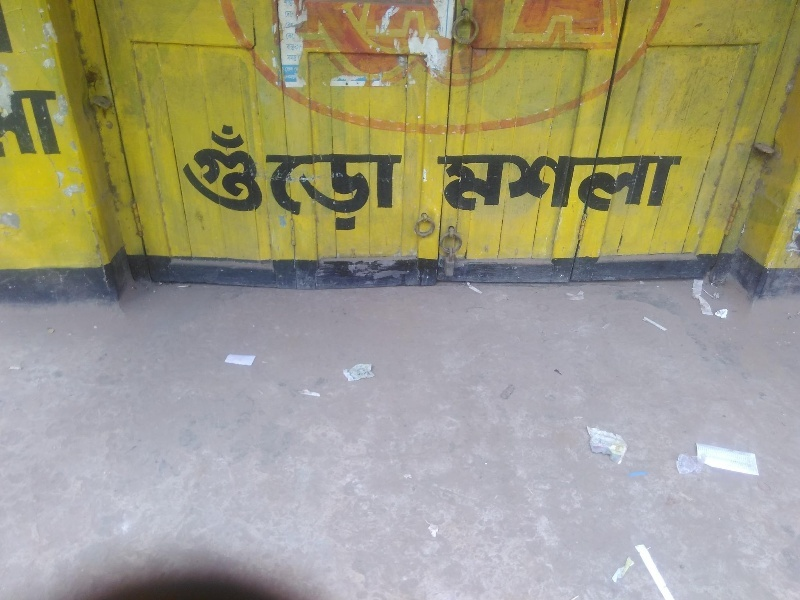text: (1, 13, 16, 169), (17, 13, 32, 169), (33, 13, 48, 169), (49, 13, 64, 169), (193, 122, 208, 233), (209, 122, 224, 233), (225, 122, 240, 233), (241, 122, 256, 233), (257, 122, 272, 233), (273, 122, 288, 233), (289, 122, 304, 233), (305, 122, 320, 233), (321, 122, 336, 233), (337, 122, 352, 233), (353, 122, 368, 233), (369, 122, 384, 233), (385, 122, 400, 233), (273, 2, 288, 88), (289, 2, 304, 88), (305, 2, 320, 88), (321, 2, 336, 88), (337, 2, 352, 88), (353, 2, 368, 88), (369, 2, 384, 88), (385, 2, 400, 88), (401, 2, 416, 88), (417, 2, 432, 88), (433, 2, 448, 88), (449, 2, 464, 88), (465, 2, 480, 88), (481, 2, 496, 88), (497, 2, 512, 88), (513, 2, 528, 88), (529, 2, 544, 88), (545, 2, 560, 88), (561, 2, 576, 88), (577, 2, 592, 88), (593, 2, 608, 88), (609, 2, 624, 88), (65, 13, 73, 169), (183, 122, 192, 233), (449, 153, 464, 217), (465, 153, 480, 217), (481, 153, 496, 217), (497, 153, 512, 217), (513, 153, 528, 217), (529, 153, 544, 217), (545, 153, 560, 217), (561, 153, 576, 217), (577, 153, 592, 217), (593, 153, 608, 217), (609, 153, 624, 217), (625, 153, 640, 217), (641, 153, 656, 217), (657, 153, 672, 217), (262, 2, 272, 88), (437, 153, 448, 217), (673, 153, 684, 217), (401, 122, 405, 233), (625, 2, 627, 88)
